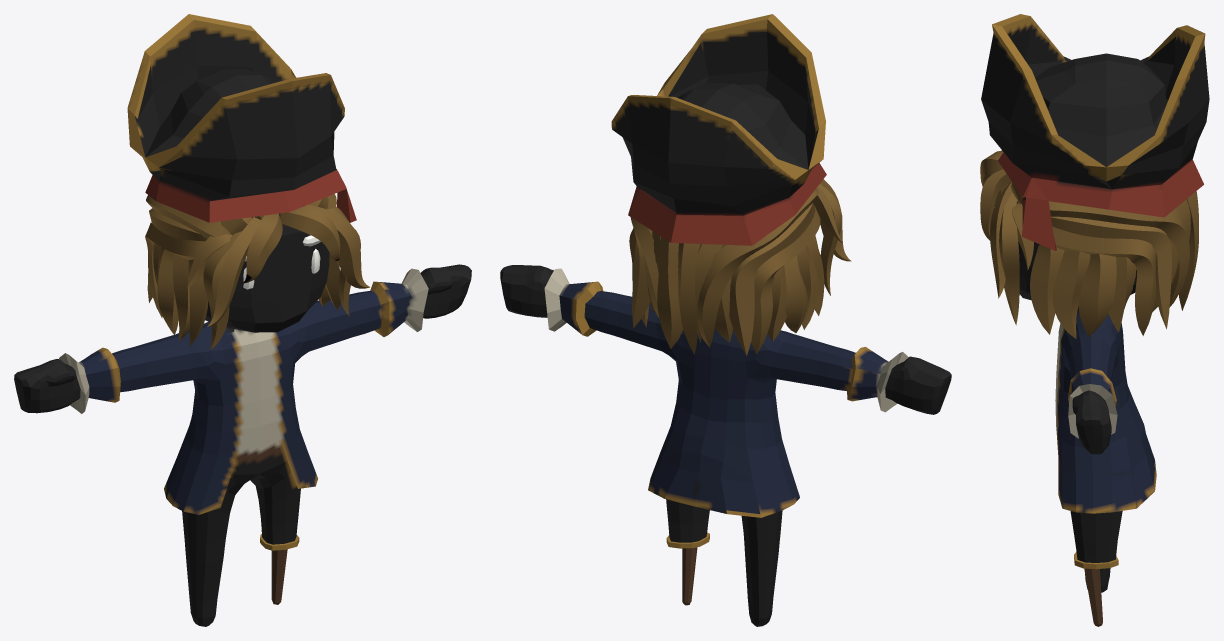
The model's file is Pirate_Female.fbx.
The picture shows the model from 3 angles, left to right: view 1: azimuth 30°, elevation 25°; view 2: azimuth 150°, elevation 25°; view 3: azimuth 270°, elevation 25°; orthographic projection. The views are drawn at different scales.
Parts seen in each view (by area): view 1: Body; view 2: Body; view 3: Body.
Part boxes in pixels (bbox=[...]): Body: bbox=[14, 14, 471, 626]; Body: bbox=[500, 14, 951, 626]; Body: bbox=[980, 14, 1209, 626].
Size of the model in its own units: 324 by 392 by 139.
Materials: 1 (1 with a texture image).
